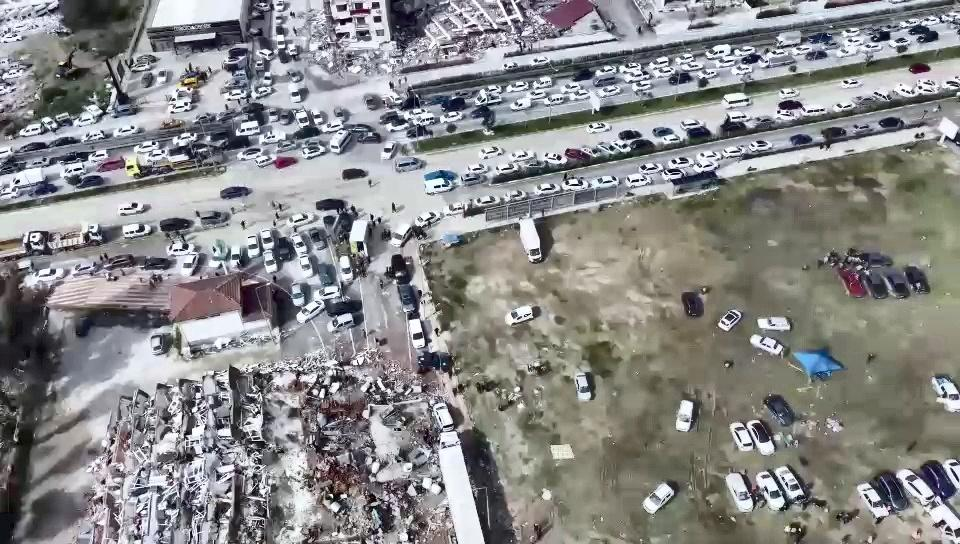kapali: (281, 318, 461, 543)
